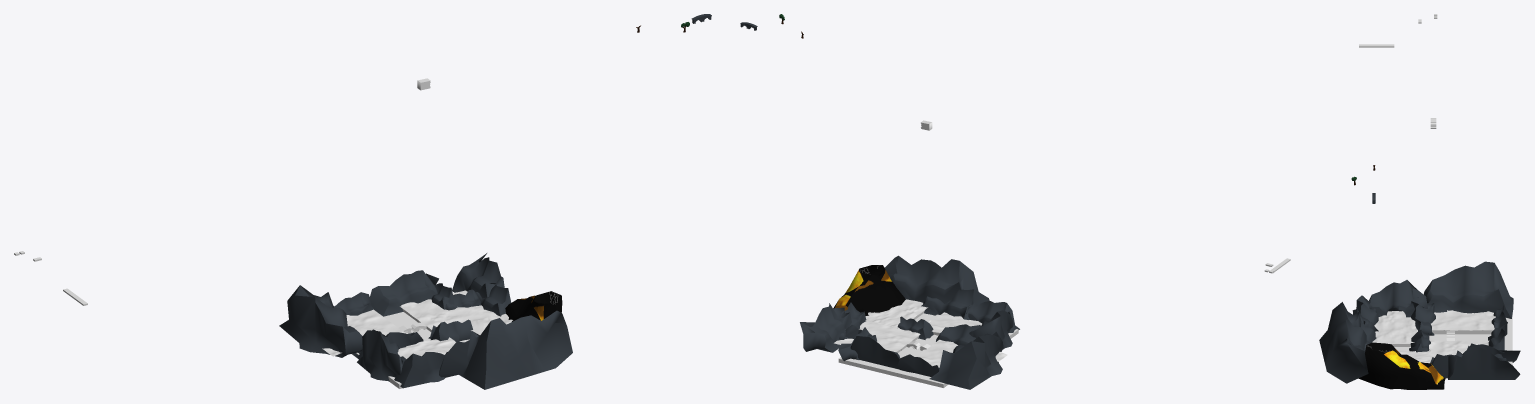
Rendered from Level1.FBX.
The picture shows the model from 3 angles, left to right: view 1: azimuth 30°, elevation 25°; view 2: azimuth 150°, elevation 25°; view 3: azimuth 270°, elevation 25°; orthographic projection. The views are drawn at different scales.
Parts seen in each view (by area): view 1: MountainR007, MountainR005, MountainTL001, Sphere002, Plane003, MountainTR002, MountainR011, Volcano001, Plane001, MountainL005, MountainR008, Plane004 (+3 smaller); view 2: MountainR007, MountainR005, Volcano001, MountainTR002, Shape221, MountainL005, Plane003, MountainTL001, Plane005, Sphere002, MountainR011, Plane001 (+4 smaller); view 3: MountainR005, MountainR007, Volcano001, MountainTR002, Sphere002, Plane001, Plane004, Shape221, Plane003, MountainR006, MountainR011, MountainTL001 (+7 smaller).
Part boxes in pixels (x1=…): MountainR007: x1=459, y1=310, x2=572, y2=389; MountainR005: x1=279, y1=285, x2=362, y2=357; MountainTL001: x1=369, y1=270, x2=437, y2=316; Sphere002: x1=357, y1=329, x2=406, y2=381; Plane003: x1=400, y1=290, x2=497, y2=329; MountainTR002: x1=452, y1=253, x2=504, y2=298; MountainR011: x1=394, y1=352, x2=445, y2=388; Volcano001: x1=505, y1=291, x2=562, y2=321; Plane001: x1=322, y1=309, x2=405, y2=356; MountainL005: x1=439, y1=340, x2=469, y2=377; MountainR008: x1=428, y1=319, x2=472, y2=341; Plane004: x1=397, y1=337, x2=455, y2=358; MountainR007: x1=885, y1=255, x2=978, y2=310; MountainR005: x1=929, y1=331, x2=1003, y2=389; Volcano001: x1=833, y1=265, x2=905, y2=315; MountainTR002: x1=800, y1=303, x2=851, y2=352; Shape221: x1=838, y1=313, x2=1018, y2=387; MountainL005: x1=921, y1=289, x2=989, y2=319; Plane003: x1=834, y1=321, x2=920, y2=352; MountainTL001: x1=850, y1=336, x2=899, y2=369; Plane005: x1=865, y1=299, x2=927, y2=328; Sphere002: x1=969, y1=310, x2=1013, y2=349; MountainR011: x1=962, y1=301, x2=1019, y2=332; Plane001: x1=916, y1=339, x2=1007, y2=367; MountainR005: x1=1423, y1=261, x2=1513, y2=318; MountainR007: x1=1319, y1=302, x2=1368, y2=383; Volcano001: x1=1359, y1=342, x2=1445, y2=389; MountainTR002: x1=1448, y1=346, x2=1520, y2=379; Sphere002: x1=1369, y1=280, x2=1427, y2=317; Plane001: x1=1431, y1=310, x2=1495, y2=330; Plane004: x1=1372, y1=311, x2=1417, y2=343; Shape221: x1=1394, y1=315, x2=1512, y2=364; Plane003: x1=1429, y1=340, x2=1489, y2=360; MountainR006: x1=1411, y1=296, x2=1435, y2=335; MountainR011: x1=1356, y1=295, x2=1378, y2=325; MountainTL001: x1=1488, y1=322, x2=1507, y2=357.
Bounding box in the file's own units: 2350 × 1032 × 725.
